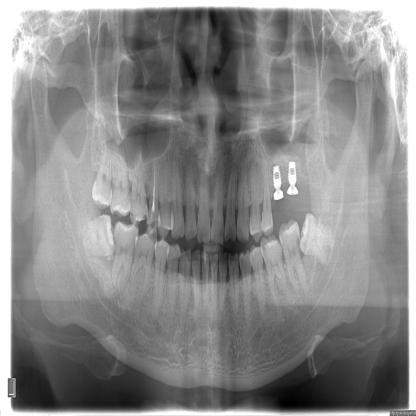Bicon: (284, 157, 306, 187), (270, 154, 284, 190)
